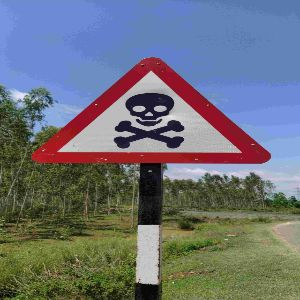Accident prone area: (23, 49, 284, 181)
